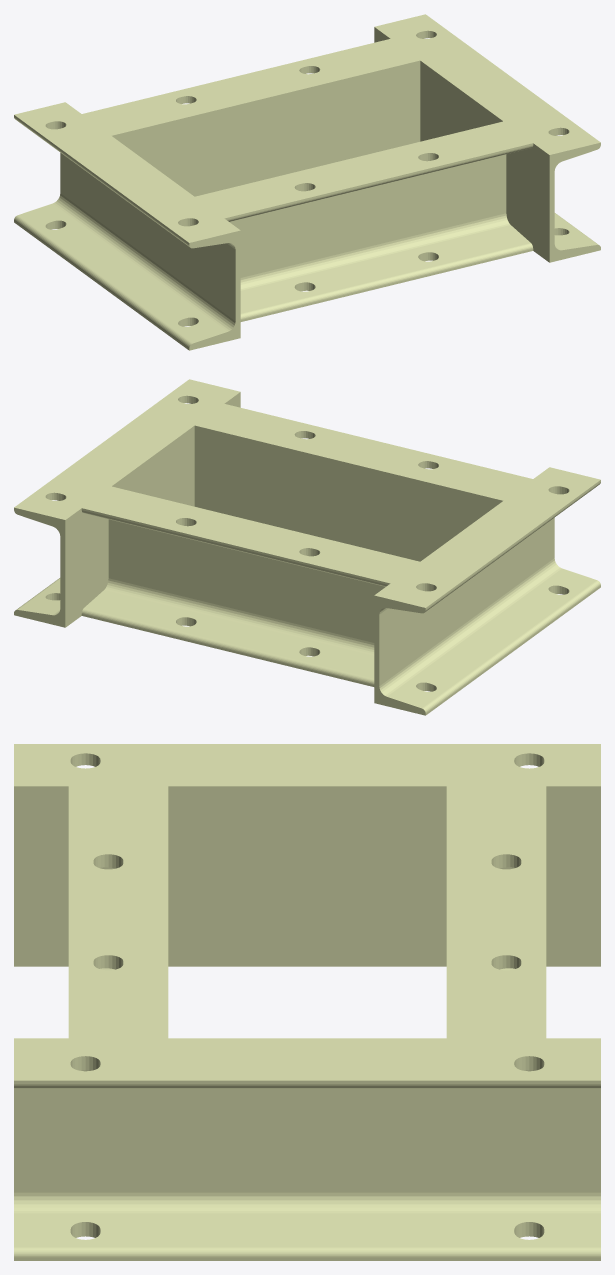
The picture shows the model from 3 angles, top to bottom: view 1: azimuth 30°, elevation 25°; view 2: azimuth 150°, elevation 25°; view 3: azimuth 270°, elevation 25°; orthographic projection. The views are drawn at different scales.
Visible parts, largest first — view 1: 【新湊小】蓄電池ベース; view 2: 【新湊小】蓄電池ベース; view 3: 【新湊小】蓄電池ベース.
Boxes of the visible parts, <box> form: 【新湊小】蓄電池ベース: <box>14,14,600,350</box>; 【新湊小】蓄電池ベース: <box>14,379,600,715</box>; 【新湊小】蓄電池ベース: <box>14,744,600,1260</box>.
Size of the model in its own units: 4 by 1 by 2.95.
